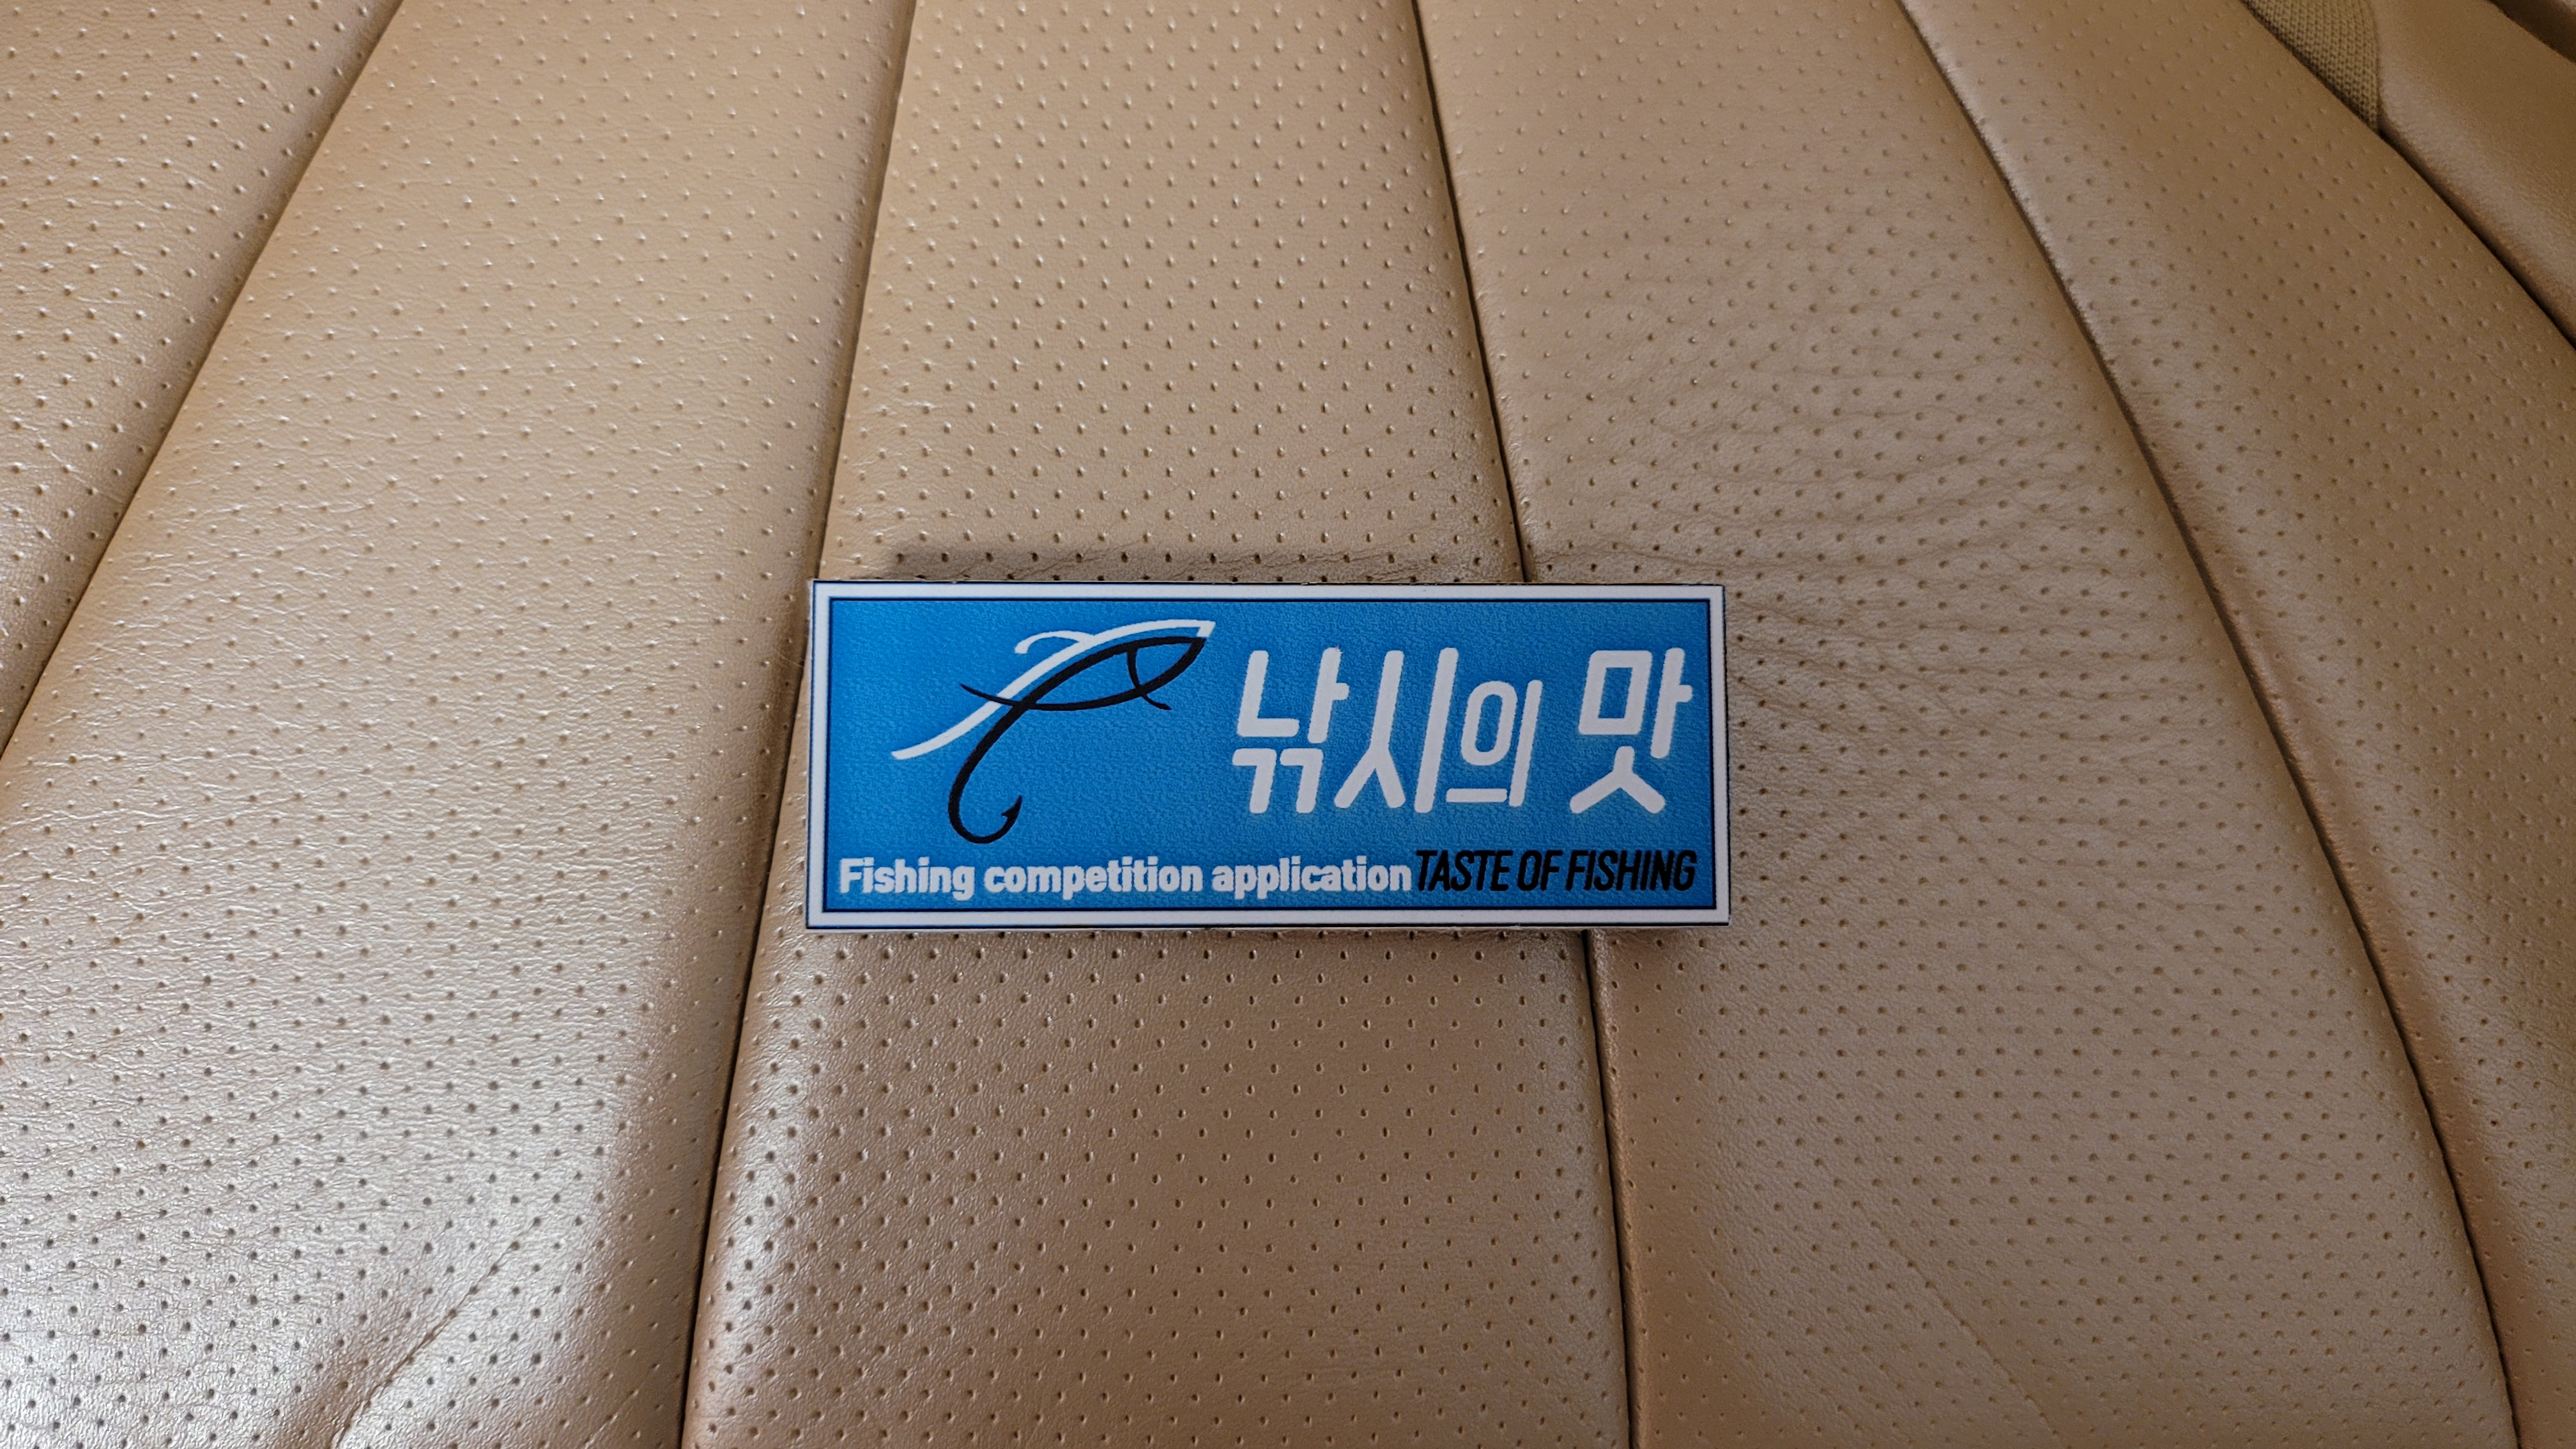tag: (814, 584, 1732, 934)
